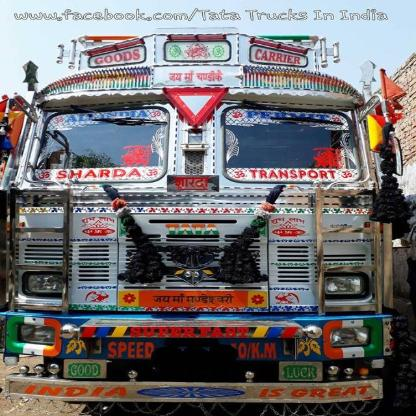truck: (17, 35, 407, 413)
